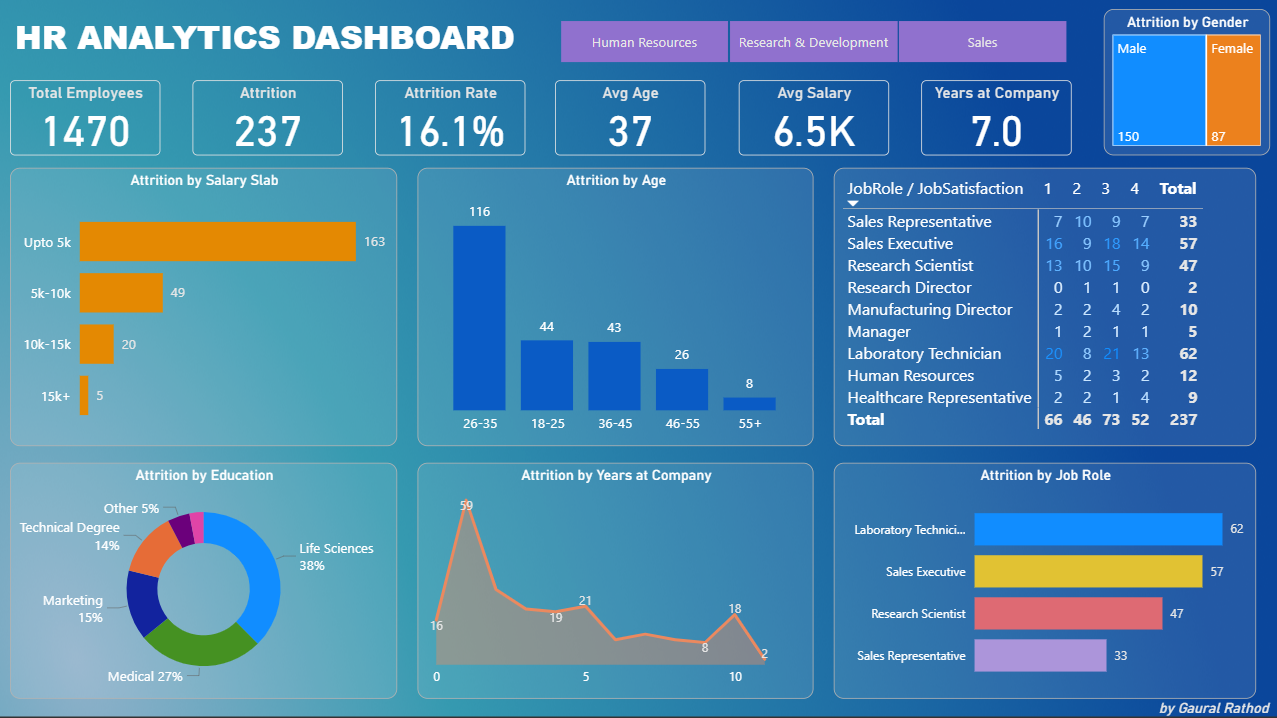

The page's visual inventory and layout, read from the dashboard file:
{"tool":"powerbi","page":{"name":"Dashboard","canvas":[1280,720],"ordinal":0},"visuals":[{"type":"card","title":"Total Employees","fields":{"Values":["CountNonNull(HR Analytics.EmpID)"]},"box":[9.8,81,150,75],"z":0},{"type":"card","title":"Attrition","fields":{"Values":["Sum(HR Analytics.AttritionCount)"]},"box":[192.6,81,150,75],"z":1000},{"type":"card","title":"Attrition Rate","fields":{"Values":["HR Analytics.AttritionRate"]},"box":[375,81.2,150,75],"z":2000},{"type":"card","title":"Avg Age","fields":{"Values":["Avg(HR Analytics.Age)"]},"box":[555,81.2,150,75],"z":3000},{"type":"card","title":"Years at Company","fields":{"Values":["Avg(HR Analytics.YearsAtCompany)"]},"box":[921.2,81.2,150,75],"z":4000},{"type":"card","title":"Avg Salary","fields":{"Values":["Avg(HR Analytics.MonthlyIncome)"]},"box":[738.8,81.2,150,75],"z":5000},{"type":"donutChart","title":"Attrition by Education","fields":{"Category":["HR Analytics.EducationField"],"Y":["Sum(HR Analytics.AttritionCount)"]},"box":[10,463.8,387.5,236.2],"z":6000},{"type":"pivotTable","title":"Attrition by Job Role and Job Satisfaction","fields":{"Columns":["HR Analytics.JobSatisfaction"],"Values":["Sum(HR Analytics.AttritionCount)"],"Rows":["HR Analytics.JobRole"]},"box":[833.8,168.8,422.5,278.8],"z":7000},{"type":"barChart","title":"Attrition by Salary Slab","fields":{"Category":["HR Analytics.SalarySlab"],"Y":["Sum(HR Analytics.AttritionCount)"]},"box":[10,168.8,387.5,278.8],"z":8000},{"type":"barChart","title":"Attrition by Job Role","fields":{"Y":["Sum(HR Analytics.AttritionCount)"],"Category":["HR Analytics.JobRole"]},"box":[417.2,169.3,396.3,278.5],"z":9000},{"type":"areaChart","title":"Attrition by Years at Company","fields":{"Category":["HR Analytics.YearsAtCompany"],"Y":["Sum(HR Analytics.AttritionCount)"]},"box":[417.5,463.8,396.2,236.2],"z":10000},{"type":"treemap","title":"Attrition by Gender","fields":{"Group":["HR Analytics.Gender"],"Values":["Sum(HR Analytics.AttritionCount)"]},"box":[1103.8,10,166.2,146.2],"z":11000},{"type":"slicer","fields":{"Values":["HR Analytics.Department"]},"box":[535,15,555,55],"z":12000},{"type":"textbox","box":[10,10,515,60],"z":13000},{"type":"columnChart","title":"Attrition by Age","fields":{"Category":["HR Analytics.AgeGroup"],"Y":["Sum(HR Analytics.AttritionCount)"]},"box":[834.4,463.8,422.1,236.8],"z":14000},{"type":"textbox","title":"by Gaural Rathod","box":[1153.8,700,126.2,20],"z":15000}]}

Visuals, with their boxes in screenshot pixels (x1, y1, x2, y2), scaled from the page's 1280x720 canvas onto the 1277x718 screenshot:
"Total Employees" card: {"left": 10, "top": 81, "right": 159, "bottom": 156}
"Attrition" card: {"left": 192, "top": 81, "right": 342, "bottom": 156}
"Attrition Rate" card: {"left": 374, "top": 81, "right": 524, "bottom": 156}
"Avg Age" card: {"left": 554, "top": 81, "right": 703, "bottom": 156}
"Years at Company" card: {"left": 919, "top": 81, "right": 1069, "bottom": 156}
"Avg Salary" card: {"left": 737, "top": 81, "right": 887, "bottom": 156}
"Attrition by Education" donutChart: {"left": 10, "top": 463, "right": 397, "bottom": 698}
"Attrition by Job Role and Job Satisfaction" pivotTable: {"left": 832, "top": 168, "right": 1253, "bottom": 446}
"Attrition by Salary Slab" barChart: {"left": 10, "top": 168, "right": 397, "bottom": 446}
"Attrition by Job Role" barChart: {"left": 416, "top": 169, "right": 812, "bottom": 447}
"Attrition by Years at Company" areaChart: {"left": 417, "top": 463, "right": 812, "bottom": 698}
"Attrition by Gender" treemap: {"left": 1101, "top": 10, "right": 1267, "bottom": 156}
slicer - HR Analytics.Department: {"left": 534, "top": 15, "right": 1087, "bottom": 70}
textbox: {"left": 10, "top": 10, "right": 524, "bottom": 70}
"Attrition by Age" columnChart: {"left": 832, "top": 463, "right": 1254, "bottom": 699}
"by Gaural Rathod" textbox: {"left": 1151, "top": 698, "right": 1276, "bottom": 717}
